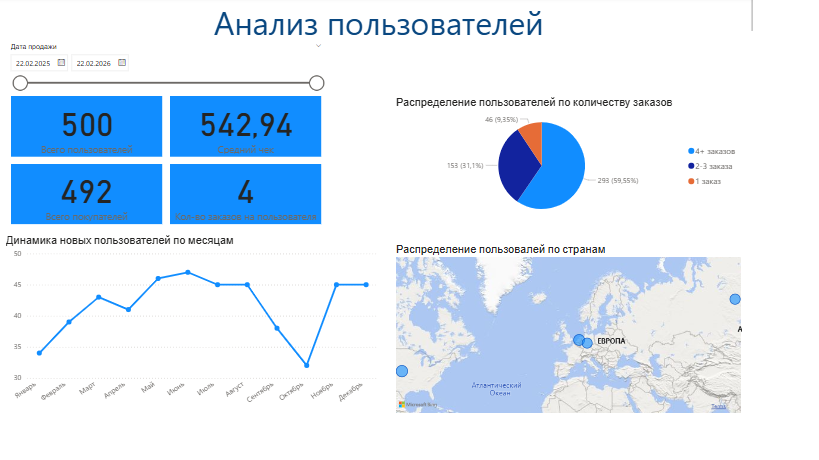

What the dashboard file says about the page in this screenshot:
{"tool":"powerbi","page":{"name":"Анализ пользователей","canvas":[1280,720],"ordinal":1},"visuals":[{"type":"textbox","box":[10.1,0,1269.9,70.6],"z":0},{"type":"slicer","fields":{"Values":["public orders.order_date"]},"box":[10.1,70.6,547.6,95.7],"z":1000},{"type":"card","fields":{"Values":["public orders.Customers"]},"box":[23.5,166.3,253.6,102.5],"z":2000},{"type":"card","fields":{"Values":["public orders.Buyers"]},"box":[23.5,280.5,253.6,100.8],"z":3000},{"type":"lineChart","title":"Динамика новых пользователей по месяцам","fields":{"Category":["Calendar.Date.Изменение.Иерархия дат.Месяц","Calendar.Date.Изменение.Иерархия дат.День"],"Y":["public orders.New Users"]},"box":[10.1,398.1,635,305.7],"z":4000},{"type":"card","fields":{"Values":["public orders.Avg Check"]},"box":[290.6,166.3,253.6,102.5],"z":5000},{"type":"card","fields":{"Values":["public orders.Orders per User"]},"box":[290.6,280.5,253.6,100.8],"z":6000},{"type":"map","title":"Распределение пользовалей по странам","fields":{"Category":["public users.country"],"Size":["public orders.Customers"]},"box":[665.2,413.2,589.6,290.6],"z":7000},{"type":"pieChart","title":"Распределение пользователей по количеству заказов","fields":{"Category":["User Orders.Order Group"],"Y":["User Orders.Users in Group"]},"box":[665.2,166.3,589.6,215],"z":7001}]}

Visuals, with their boxes in screenshot pixels (x1, y1, x2, y2), scaled from the page's 1280x720 canvas onto the 819x460 screenshot:
textbox: (6,0,818,45)
slicer - public orders.order_date: (6,45,357,106)
card - public orders.Customers: (15,106,177,172)
card - public orders.Buyers: (15,179,177,244)
"Динамика новых пользователей по месяцам" lineChart: (6,254,413,450)
card - public orders.Avg Check: (186,106,348,172)
card - public orders.Orders per User: (186,179,348,244)
"Распределение пользовалей по странам" map: (426,264,803,450)
"Распределение пользователей по количеству заказов" pieChart: (426,106,803,244)
